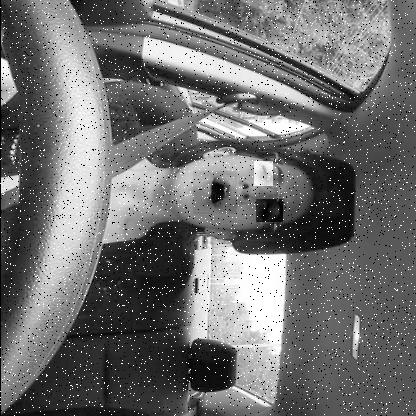seatbelt: (0, 114, 343, 254)
